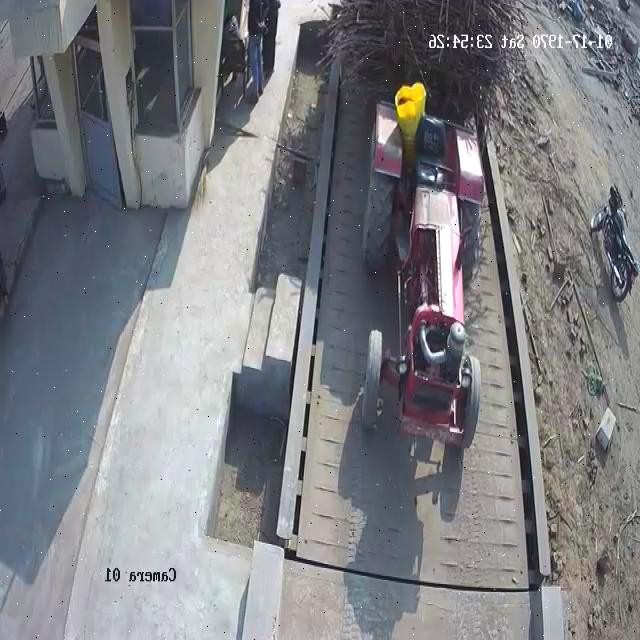Tratores - v5 YOLO V8L 2024-11-13: (355, 122, 482, 447)
